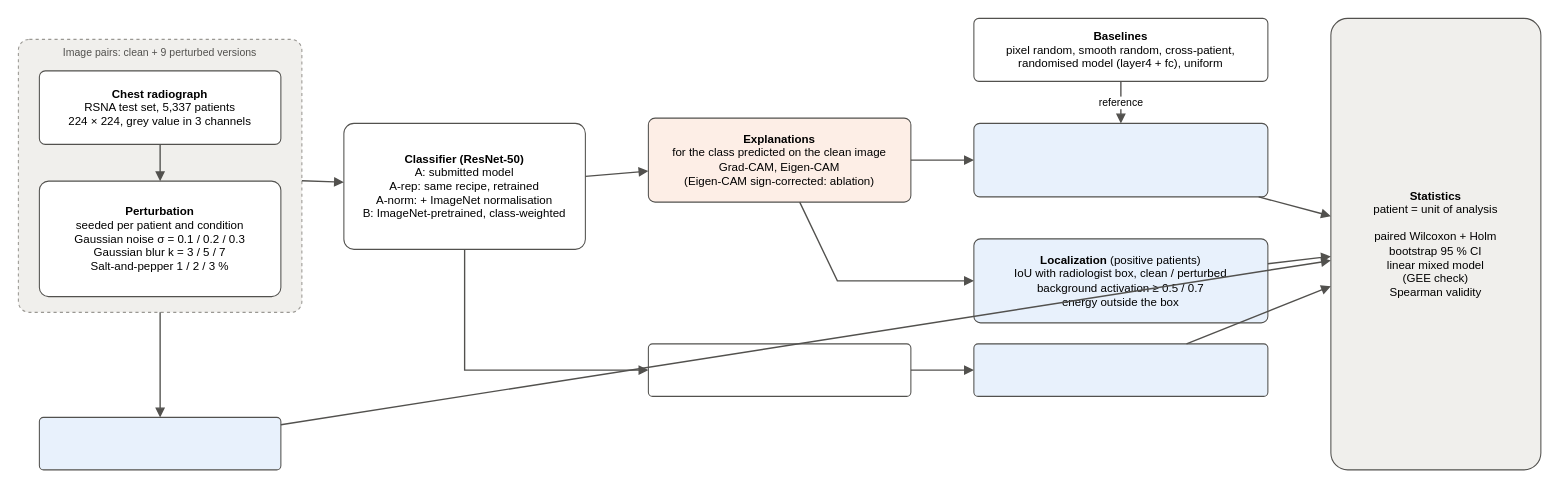
Some shapes in this 1559 by 488 pixel diagram are drawn without their labels. Each missing label, with the centre of its shape:
Input degradation PSNR, SSIM (clean vs perturbed image): the point at 159,443
Predicted class clean vs perturbed image: the point at 779,369
Prediction flip: the point at 1120,369
XFI RS = [SSIM + (r P + 1)/2 + (r S + 1)/2] / 3 XFI = 1 − RS, range [0, 4/3]: the point at 1120,159
